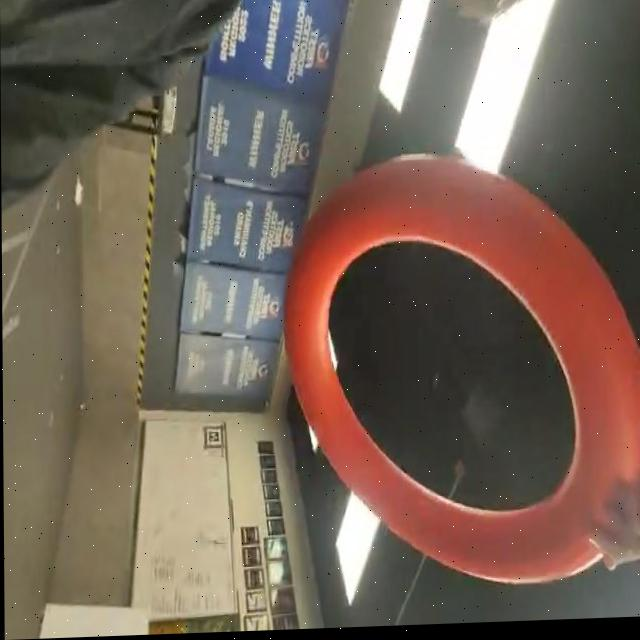note: (270, 149, 640, 614)
